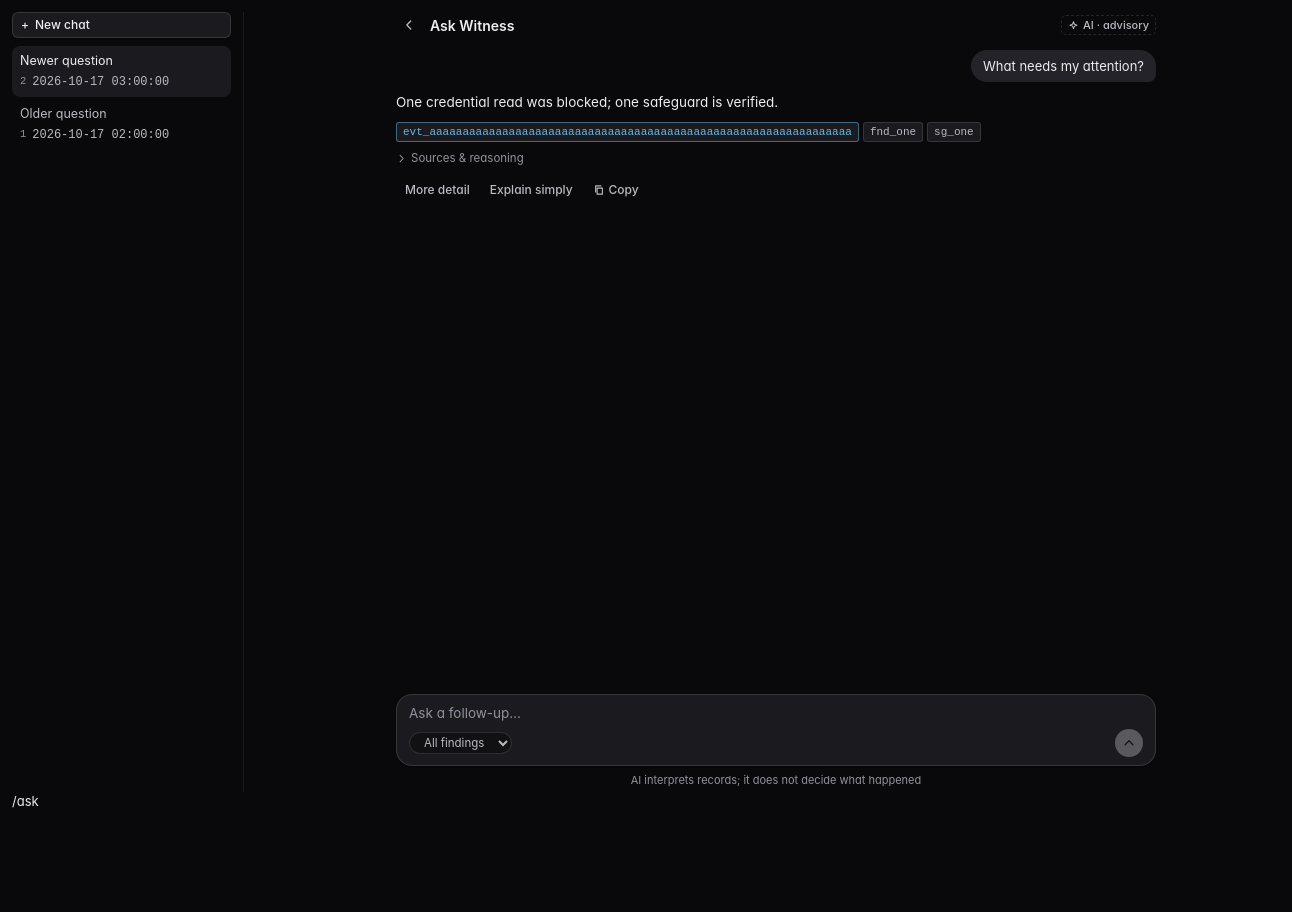
Test: AskWitnessPage › opens earlier investigations from the history list with their last question
Expected: the button "Newer question 2 2026-10-17 03:00:00" is shown, x1=12 y1=46 x2=231 y2=97
Expected: the text "One credential read was blocked; one safeguard is verified." is shown, x1=396 y1=94 x2=778 y2=110
Click the button "Older question 1 2026-10-17 02:00:00": (122, 124) x1=12 y1=99 x2=231 y2=150
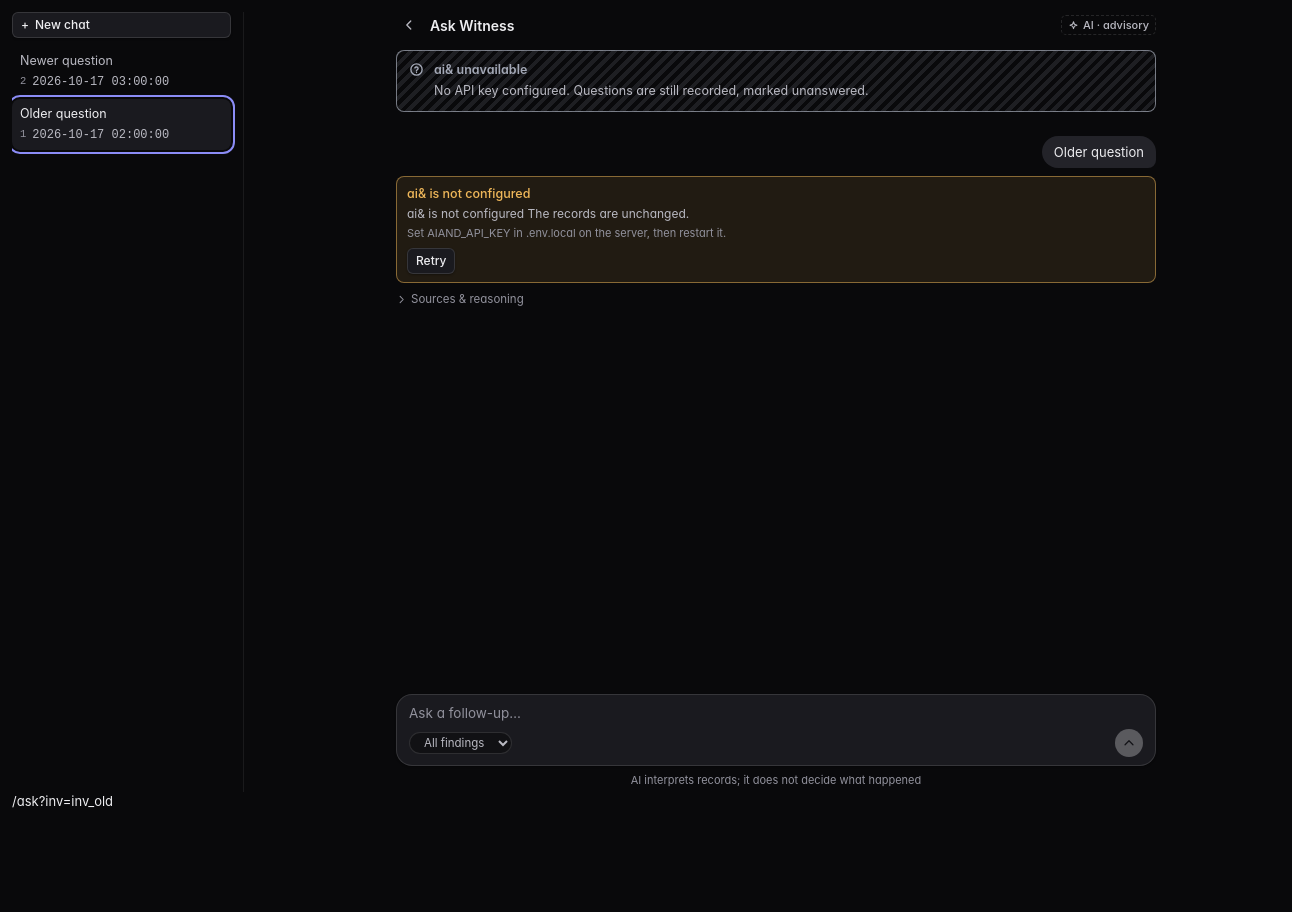
Now the text "No API key configured." is shown, box x1=434 y1=83 x2=570 y2=98
Now the text with test id "location" shows "inv=inv_old", box x1=12 y1=793 x2=113 y2=809
